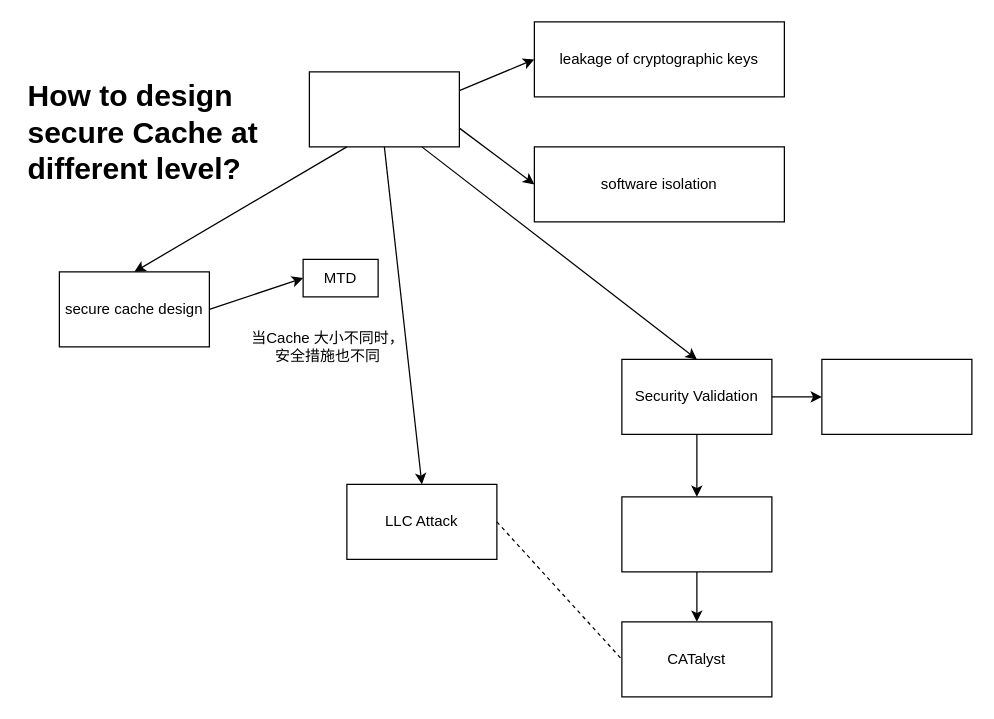
Some shapes in this 994 by 719 pixel diagram are drawn without their labels. The shapes that lost their labels are listed below. From the top down, each one's centre as x and y in pixels, then its label:
At (x=383, y=109): "Motivation".
At (x=896, y=396): "NewCache".
At (x=696, y=534): "Random Fill".
